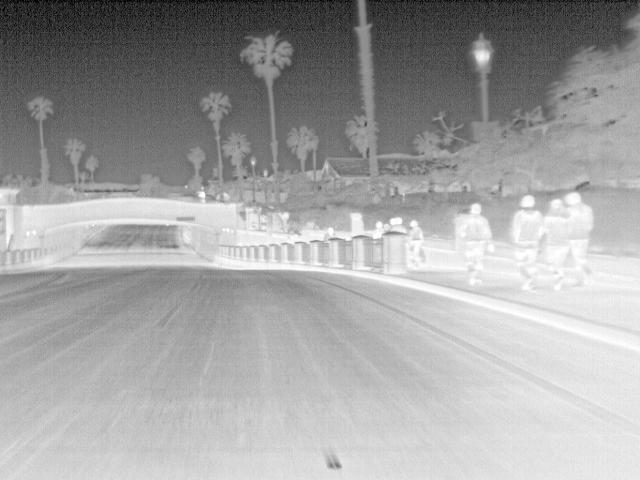person: (510, 194, 544, 290), (537, 198, 571, 290), (458, 200, 493, 284), (565, 187, 592, 288), (405, 220, 427, 266), (320, 226, 338, 240), (371, 220, 385, 236)
